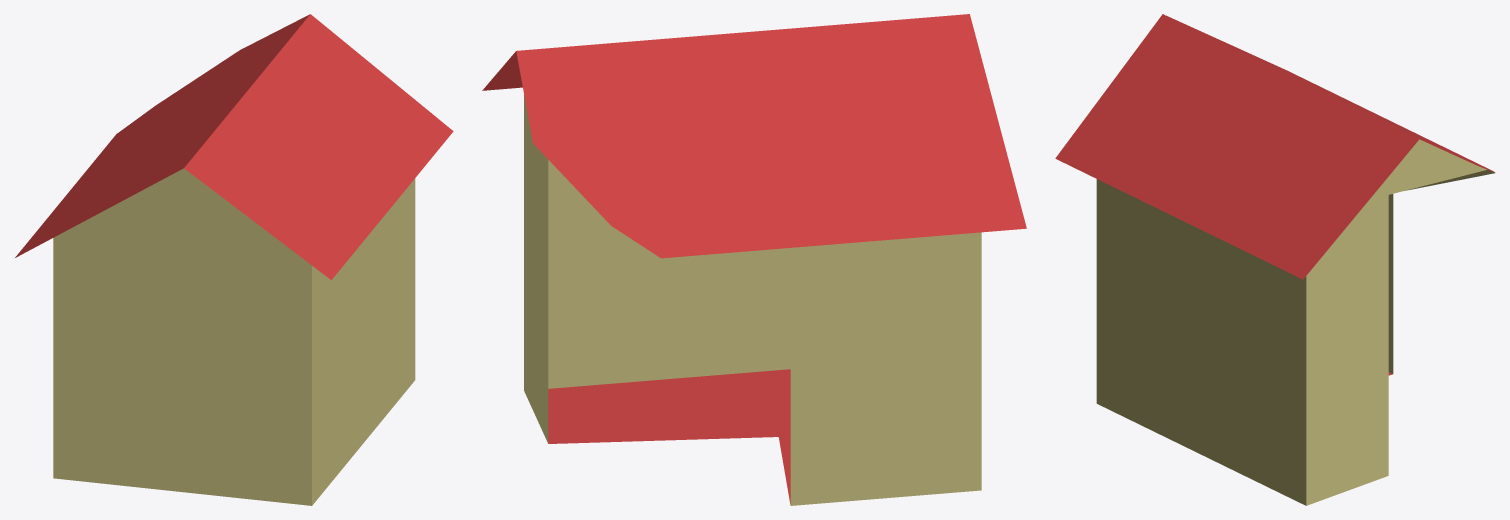
The picture shows the model from 3 angles, left to right: view 1: azimuth 30°, elevation 25°; view 2: azimuth 150°, elevation 25°; view 3: azimuth 270°, elevation 25°; orthographic projection. The views are drawn at different scales.
Size of the model in its own units: 17.21 by 14.45 by 12.39.
